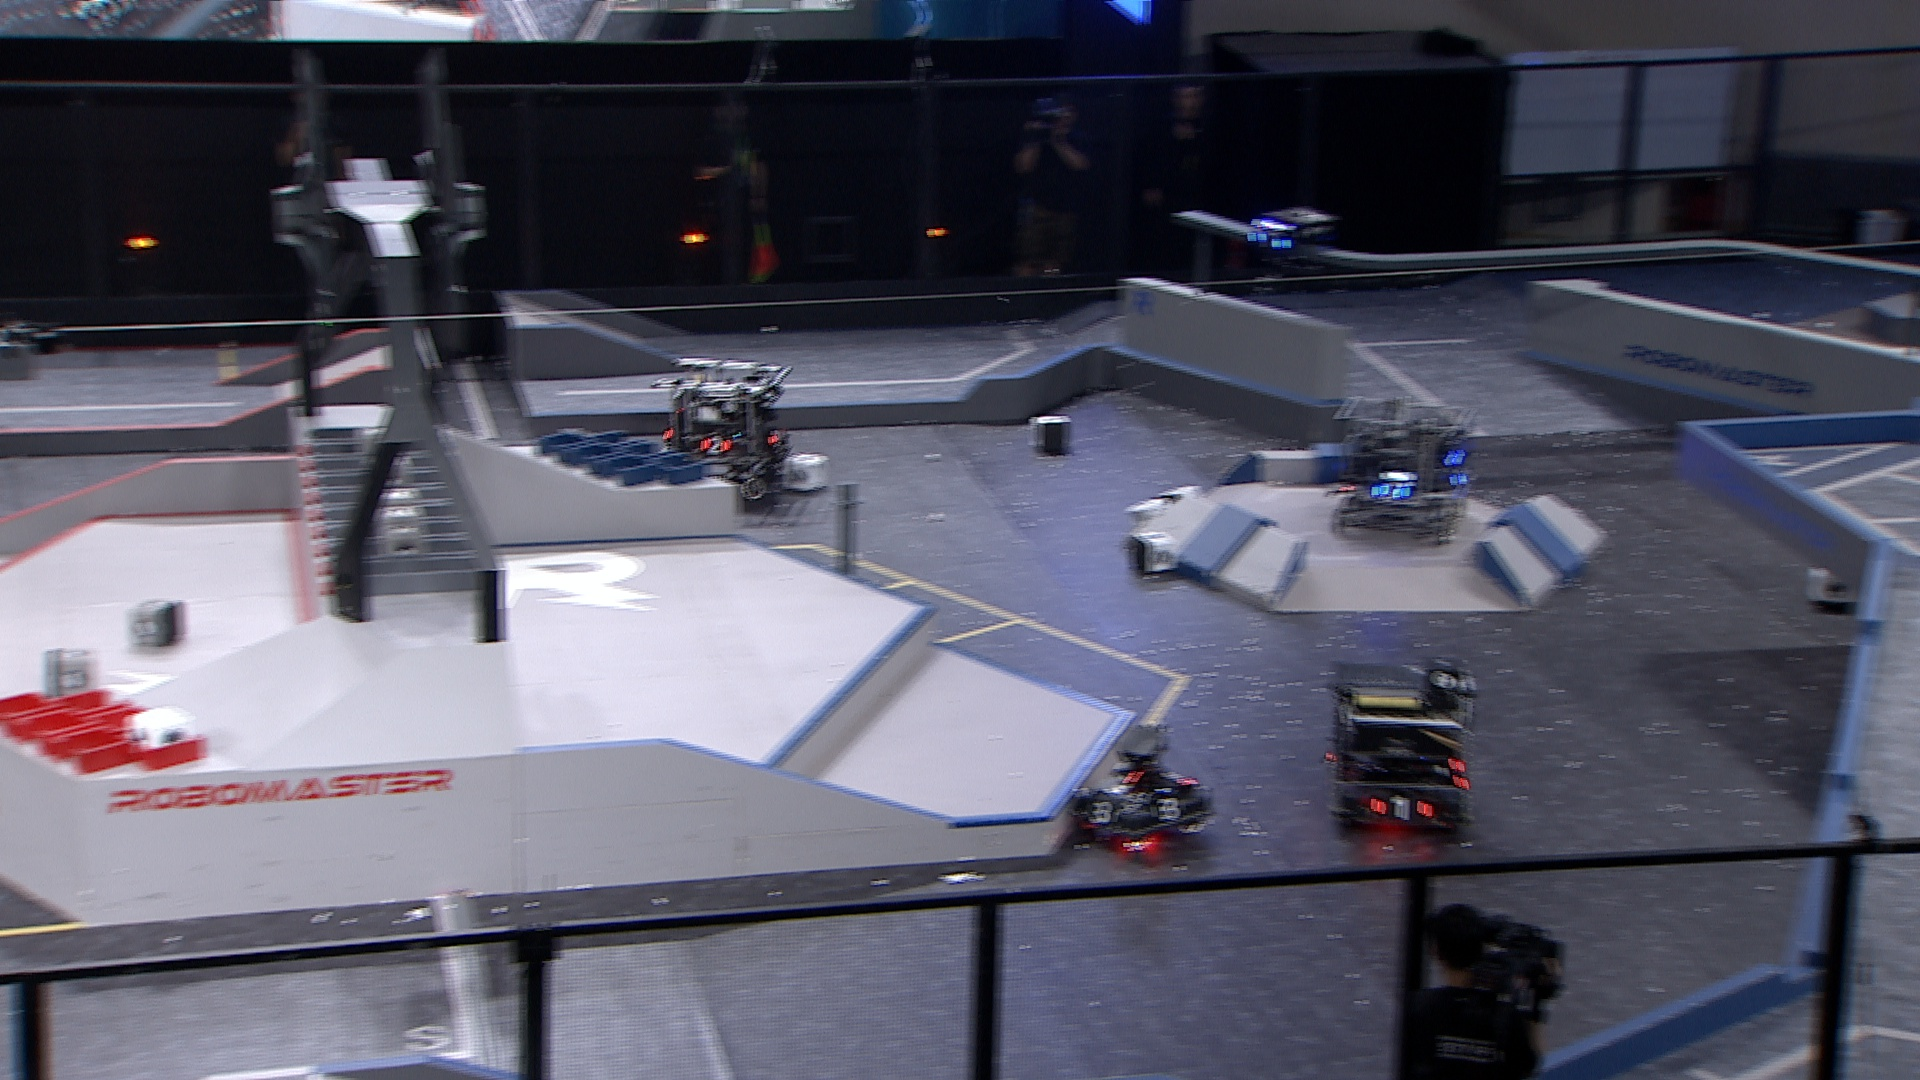armor: (1370, 794, 1433, 823), (1370, 479, 1419, 504), (1247, 229, 1291, 253), (1087, 798, 1120, 825), (1154, 796, 1187, 823), (1102, 779, 1139, 800), (698, 436, 731, 458), (1447, 465, 1472, 488)
car: (1323, 659, 1480, 837), (647, 357, 795, 506), (1328, 396, 1477, 541), (1064, 723, 1215, 858)
watcher: (1245, 207, 1333, 295)
